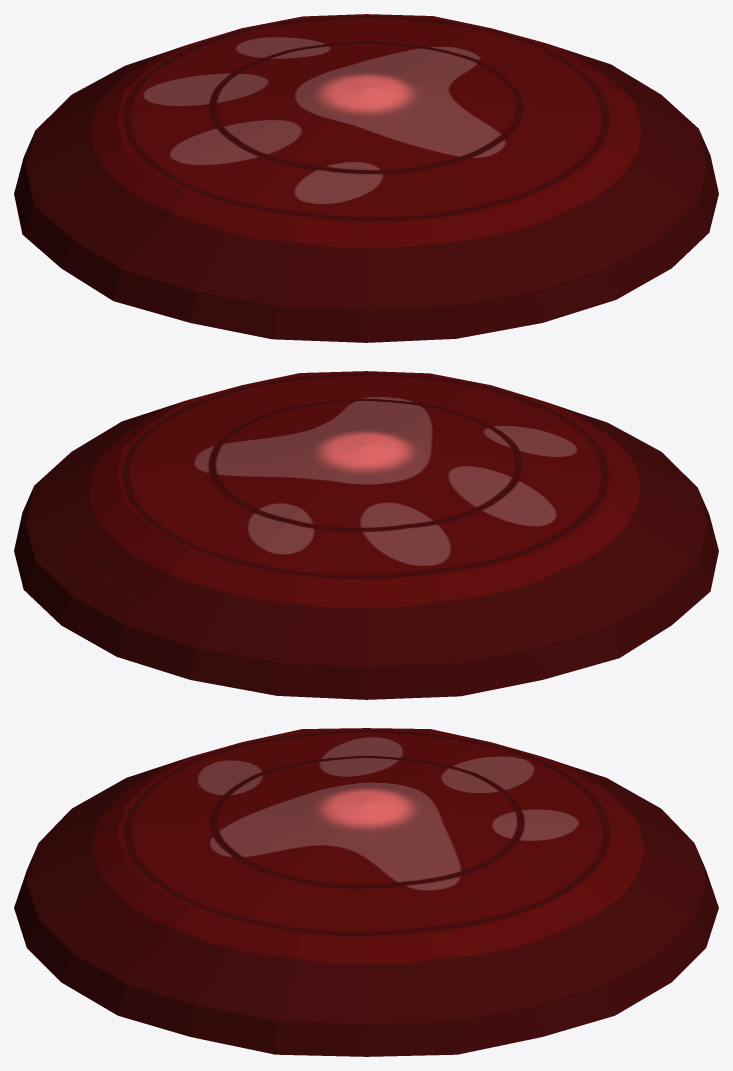
The model's file is Bumper.fbx.
3 renders of one model, top to bottom at view 1: azimuth 30°, elevation 25°; view 2: azimuth 150°, elevation 25°; view 3: azimuth 270°, elevation 25°, orthographic.
Parts seen in each view (by area): view 1: Sphere; view 2: Sphere; view 3: Sphere.
Part boxes in pixels (<box>): Sphere: <box>14,14,718,342</box>; Sphere: <box>14,371,718,699</box>; Sphere: <box>14,728,718,1056</box>.
Size of the model in its own units: 200 by 33.32 by 200.
